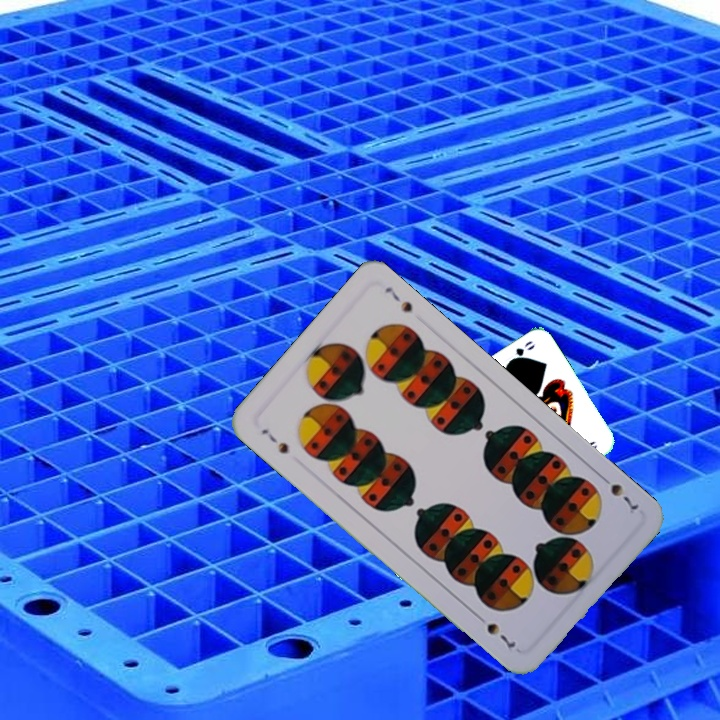GO: (503, 336, 538, 368)
S7: (595, 471, 642, 517), (257, 424, 291, 457)
